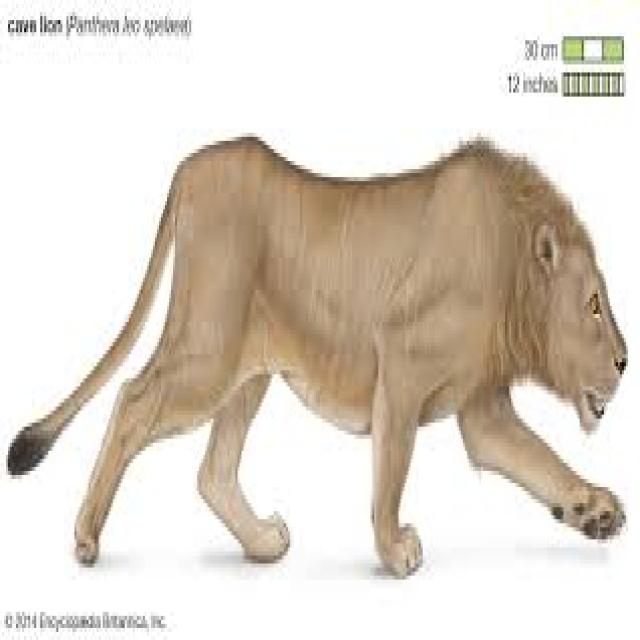Lion: (7, 139, 629, 575)
